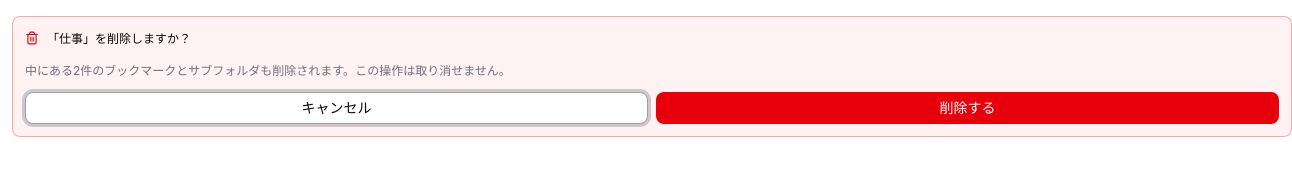
Test: shadcnの削除確認画面 › 非同期の削除完了を待ち、その間は重複操作を防ぐ
Later steps or results of the test are not shown.
Click the button "削除する" at (968, 108), box x1=656 y1=92 x2=1279 y2=124
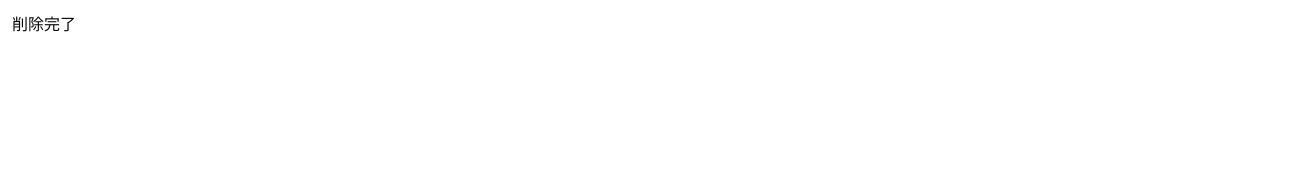
Expected: the text "削除完了" is shown, x1=12 y1=14 x2=76 y2=34
